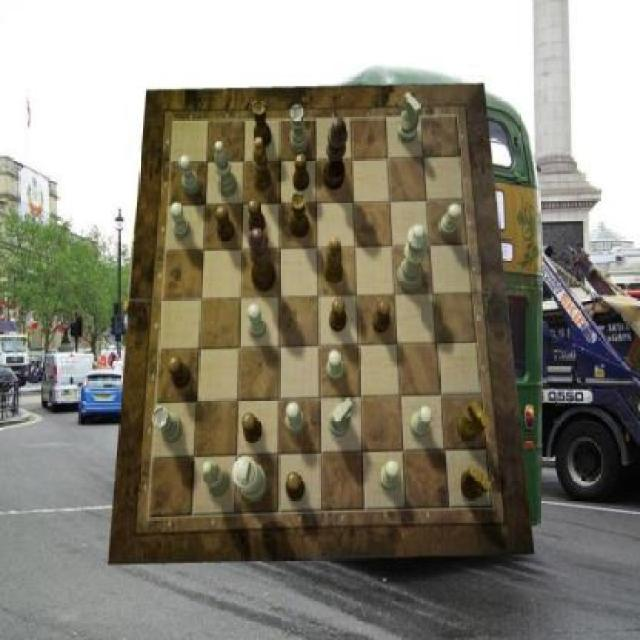bishop: (254, 137, 274, 191), (324, 237, 344, 285)
black-bishop: (323, 117, 349, 191)
black-king: (457, 402, 490, 442), (460, 465, 492, 499)
black-knight: (168, 356, 190, 390), (216, 206, 236, 241), (294, 154, 311, 191), (329, 298, 347, 332), (372, 298, 390, 332), (248, 198, 265, 234), (243, 414, 263, 444), (286, 474, 306, 501)
black-pawn: (249, 228, 277, 292)
black-queen: (252, 100, 272, 149), (291, 192, 311, 238)
black-rook: (216, 142, 238, 198), (203, 462, 231, 498)
white-bishop: (234, 455, 269, 501)
white-king: (398, 94, 422, 144), (330, 398, 352, 437)
white-knight: (438, 203, 462, 238), (180, 155, 200, 194), (411, 406, 434, 439), (171, 202, 191, 239), (248, 304, 267, 340), (286, 401, 306, 434), (378, 460, 399, 491), (328, 351, 345, 383)
white-pawn: (397, 226, 429, 292)
white-queen: (152, 406, 182, 444), (291, 106, 308, 154)
